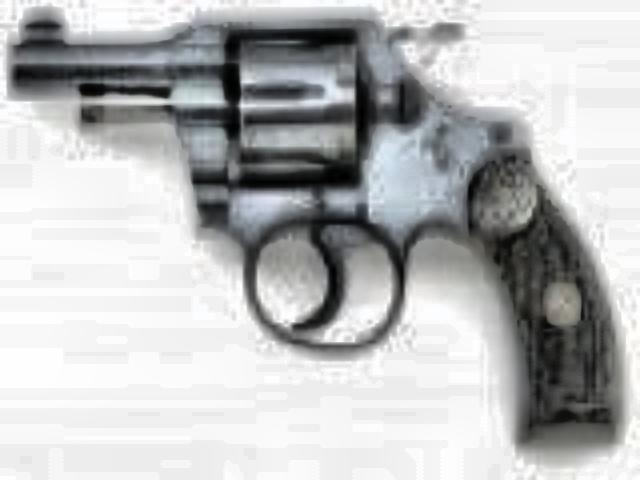pistol: (4, 0, 624, 444)
